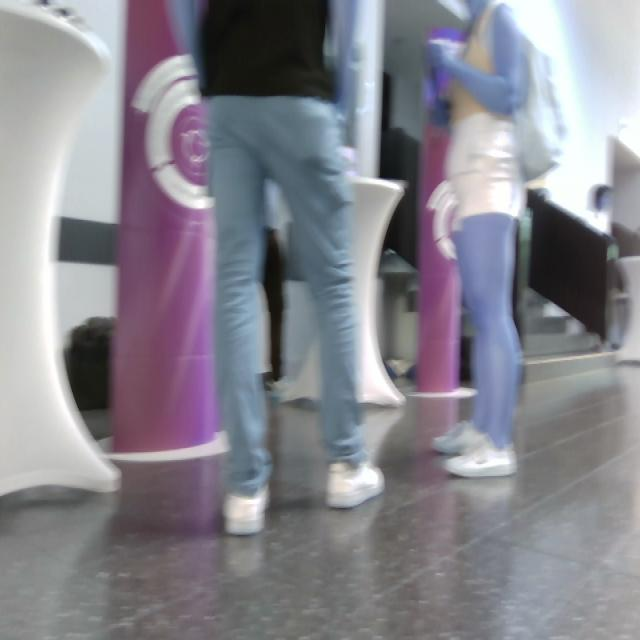light bulb: (1, 1, 123, 501), (346, 174, 408, 408), (426, 178, 461, 261)
person: (179, 1, 386, 537), (426, 1, 567, 480)
tiled floor: (2, 352, 639, 637)
